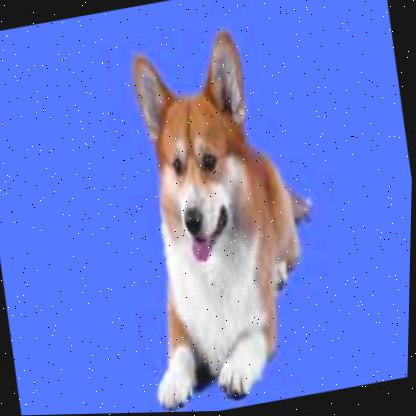dog: (99, 15, 343, 414)
